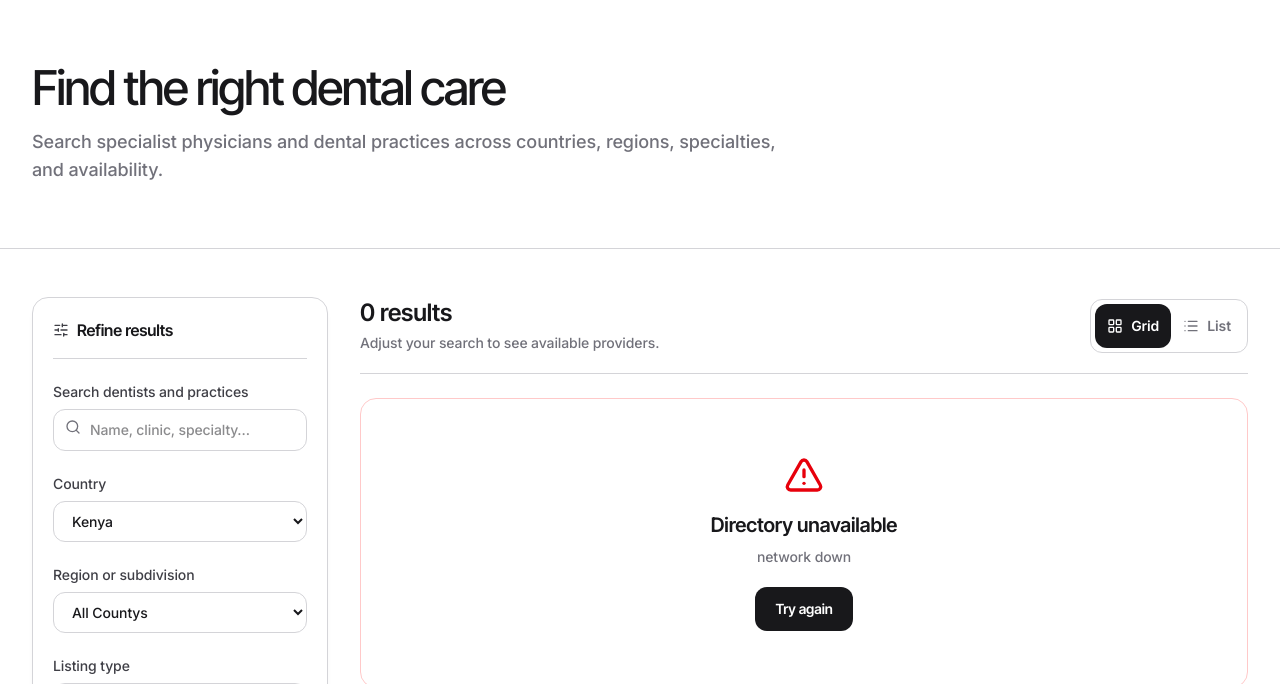
FindDentist › offers a retry when the directory cannot be loaded
The image size is (1280, 684).
Expected: the message shows "Directory unavailable", [711, 513, 897, 537]
Expected: the message shows "network down", [757, 548, 851, 565]
Step 1. Click the button "Try again" → (804, 609), box [755, 587, 853, 631]
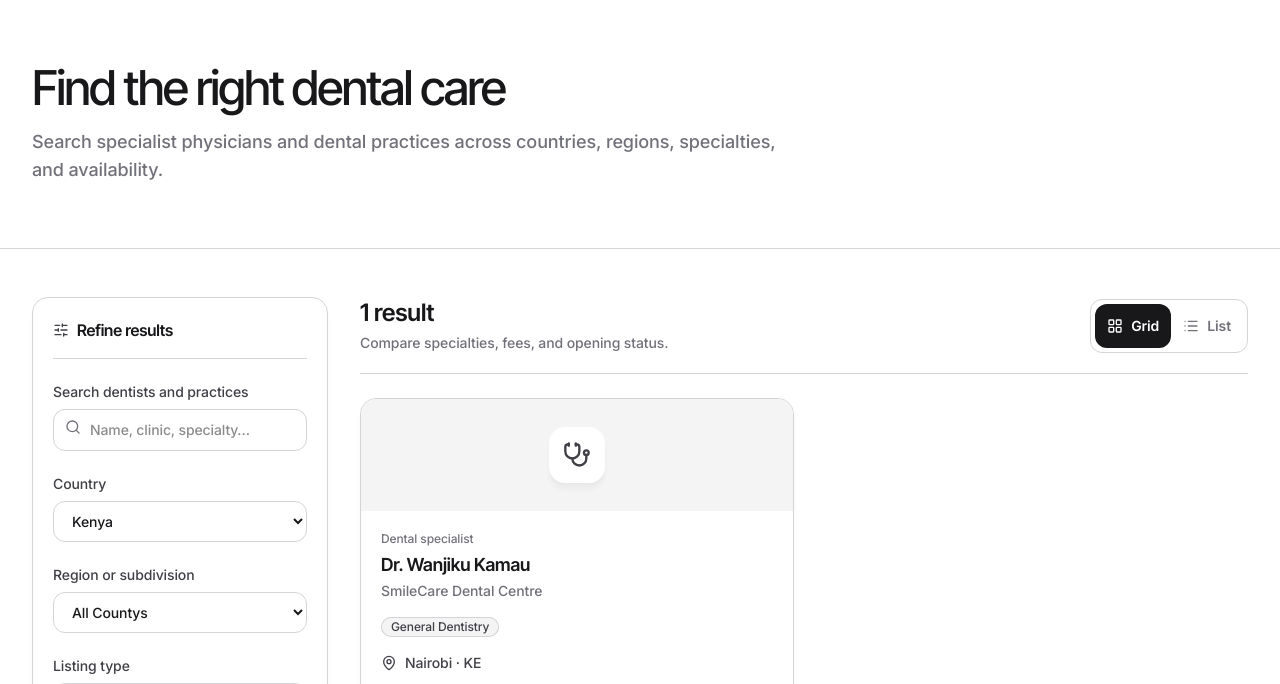
Now the text "1 result" is shown, box [360, 298, 434, 327]
